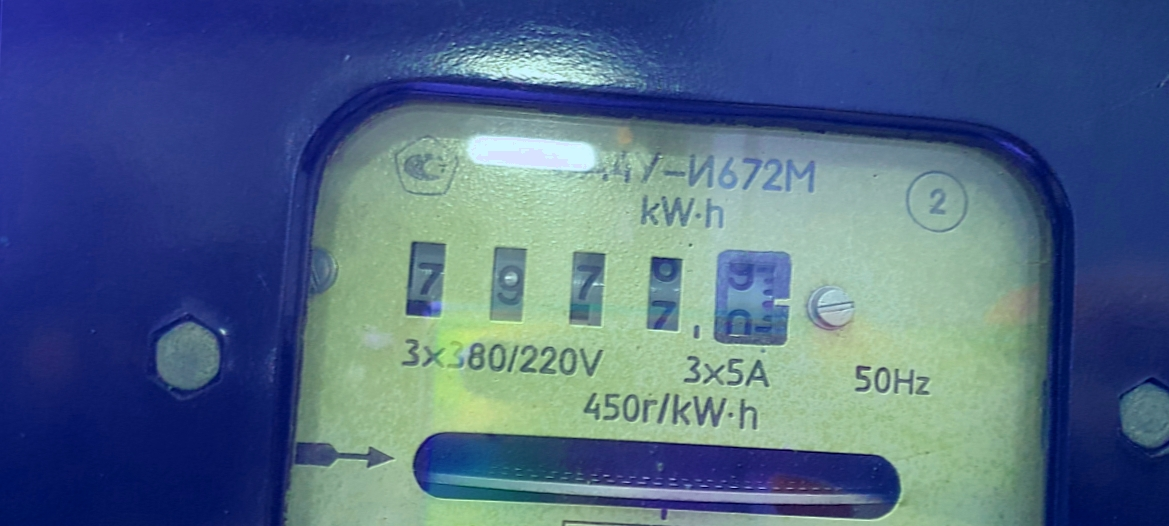0: (722, 304, 756, 343)
7: (413, 259, 445, 303), (572, 262, 604, 305), (647, 298, 679, 334)
9: (492, 263, 528, 309), (726, 257, 758, 293)
screen: (385, 219, 817, 370)
